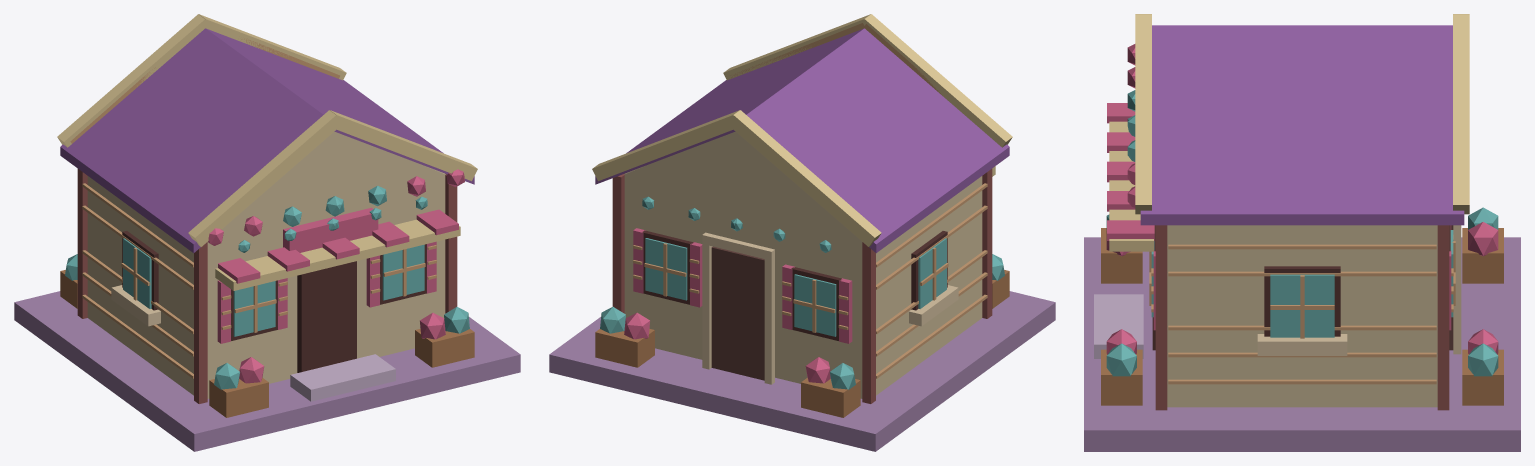
File: Candyland_SweetShop_Showcase.glb
3 renders of one model, left to right at view 1: azimuth 30°, elevation 25°; view 2: azimuth 150°, elevation 25°; view 3: azimuth 270°, elevation 25°, orthographic. The views are drawn at different scales.
Visible parts, largest first — view 1: Candyland_SweetShop_Showcase; view 2: Candyland_SweetShop_Showcase; view 3: Candyland_SweetShop_Showcase.
Part boxes in pixels (x1,y1,x2,y2): Candyland_SweetShop_Showcase: (14, 14, 520, 451); Candyland_SweetShop_Showcase: (549, 14, 1055, 451); Candyland_SweetShop_Showcase: (1084, 14, 1520, 451).
Bounding box in the file's own units: 4.6 × 3.79 × 4.4.
